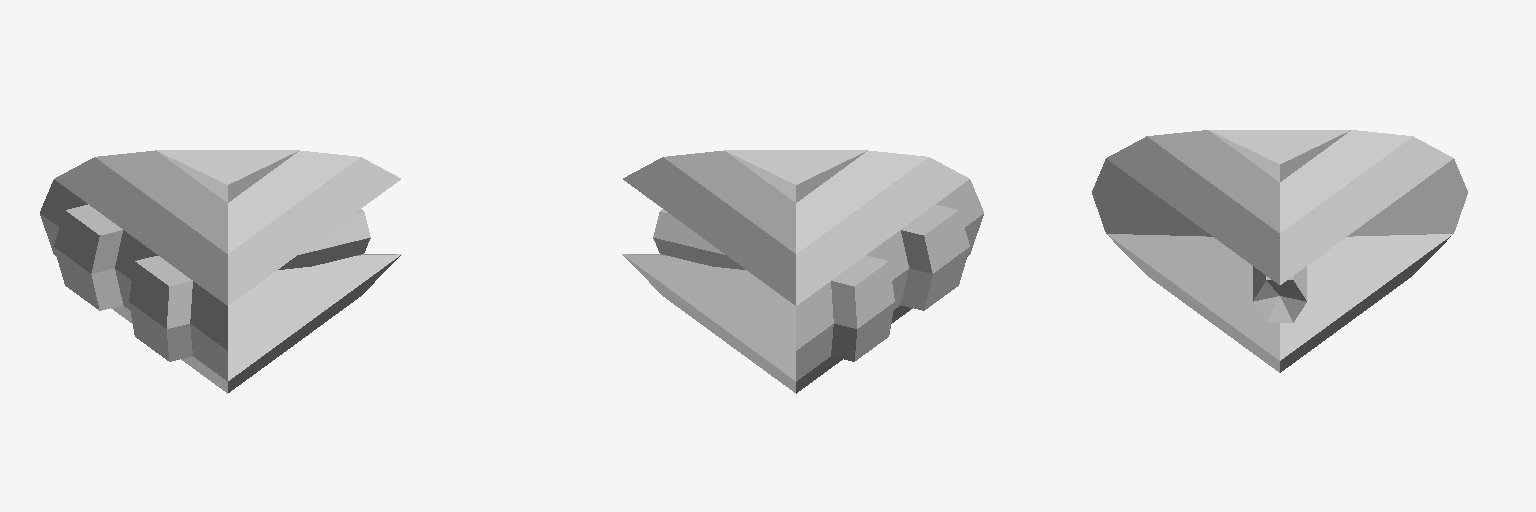
The model's file is bloke6.obj.
3 renders of one model, left to right at view 1: azimuth 30°, elevation 25°; view 2: azimuth 150°, elevation 25°; view 3: azimuth 270°, elevation 25°, orthographic.
Visible parts, largest first — view 1: Body, Weapon; view 2: Body, Weapon; view 3: Body, Weapon.
Part boxes in pixels (x1,y1,x2,y2): Body: (40, 150, 401, 393); Weapon: (278, 209, 370, 269); Body: (622, 150, 983, 393); Weapon: (653, 209, 745, 269); Body: (1092, 130, 1467, 372); Weapon: (1253, 266, 1306, 322).
Bounding box in the file's own units: 1.55 × 0.9619 × 1.73.